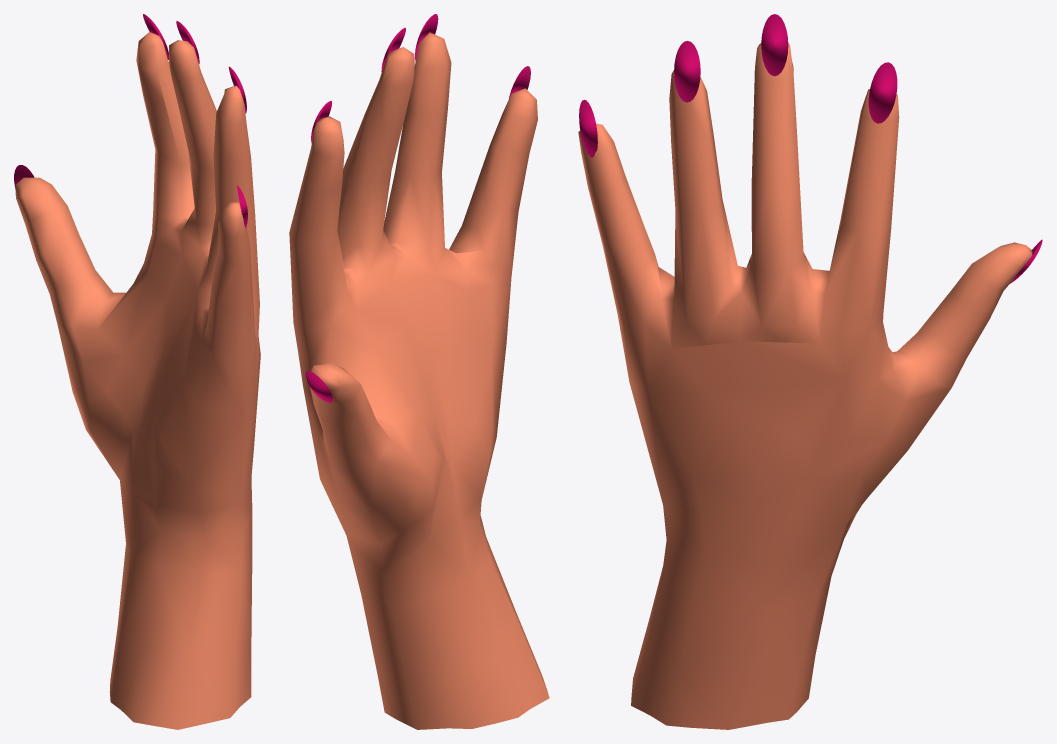
File: El Modeli.fbx
3 renders of one model, left to right at view 1: azimuth 30°, elevation 25°; view 2: azimuth 150°, elevation 25°; view 3: azimuth 270°, elevation 25°, orthographic. The views are drawn at different scales.
Visible parts, largest first — view 1: Component2_1; view 2: Component2_1, Component1_5; view 3: Component2_1, Component1_1, Component1_3, Component1_2, Component1_4.
Boxes of the visible parts, x1,y1,x2,y2 form: Component2_1: (15,32,260,729); Component2_1: (289,32,549,729); Component1_5: (305,371,333,402); Component2_1: (578,43,1032,729); Component1_1: (868,62,897,123); Component1_3: (761,14,788,76); Component1_2: (674,41,700,102); Component1_4: (579,99,597,157).
Size of the model in its own units: 2.73 by 10.54 by 6.34.
